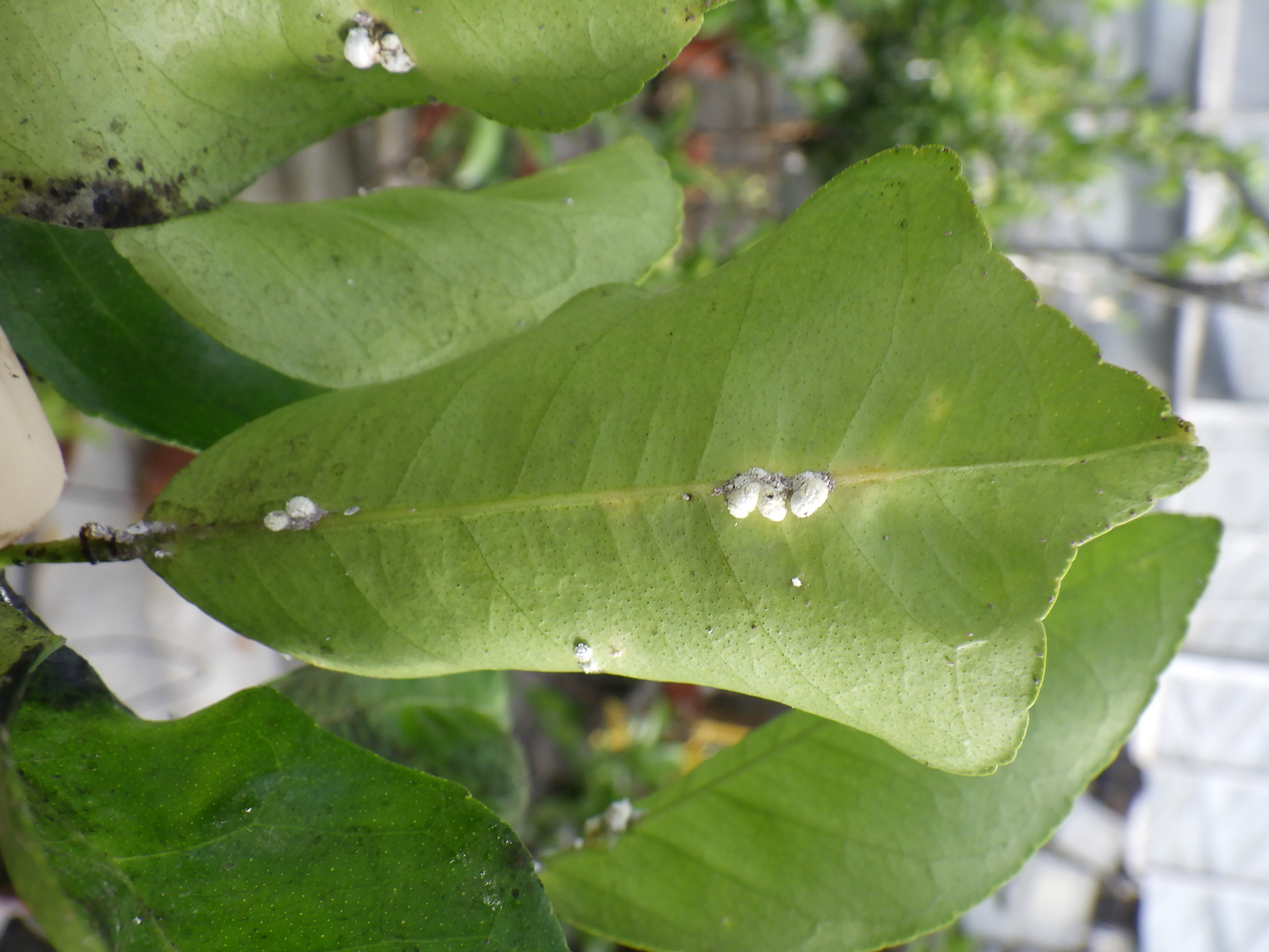Scale_Insect: (344, 11, 414, 73), (729, 480, 833, 521), (262, 495, 327, 531)
